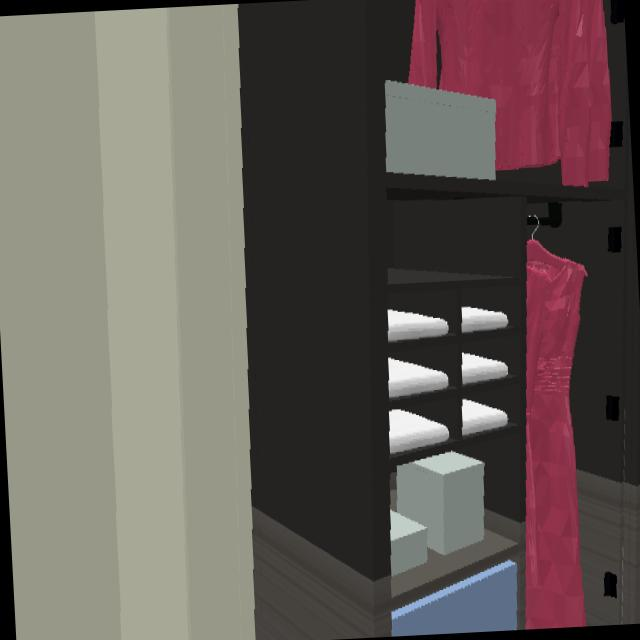wardrobe: (239, 0, 640, 638)
